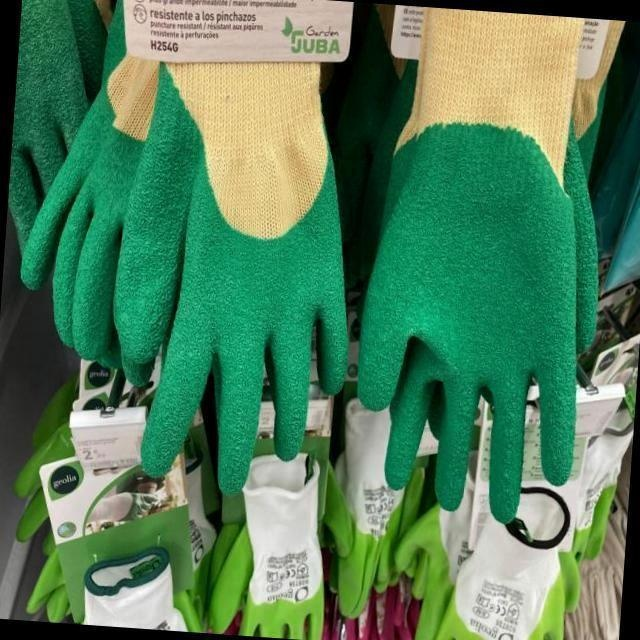Guantes: (105, 12, 363, 507), (400, 17, 607, 504)
